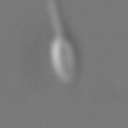normal: (40, 1, 67, 38)
